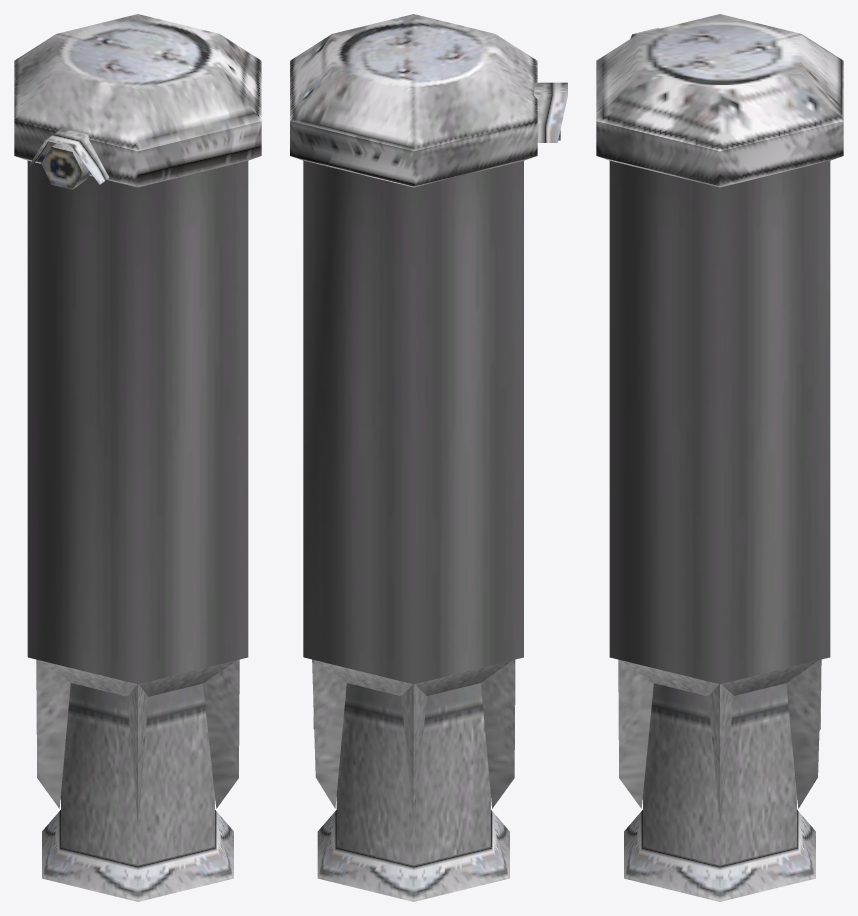
File: eqp_medic_antidote_lg_s1_l0.fbx
The picture shows the model from 3 angles, left to right: view 1: azimuth 30°, elevation 25°; view 2: azimuth 150°, elevation 25°; view 3: azimuth 270°, elevation 25°; orthographic projection.
Visible parts, largest first — view 1: mesh_node; view 2: mesh_node; view 3: mesh_node.
Part boxes in pixels (x1,y1,x2,y2): mesh_node: (14,14,261,901); mesh_node: (290,14,567,901); mesh_node: (596,14,843,901).
Bounding box in the file's own units: 0.0986 × 0.301 × 0.0843.
